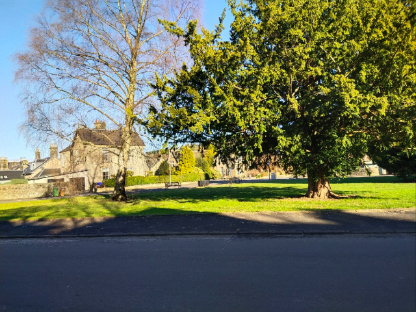tree: (170, 2, 416, 200), (11, 1, 172, 198)
